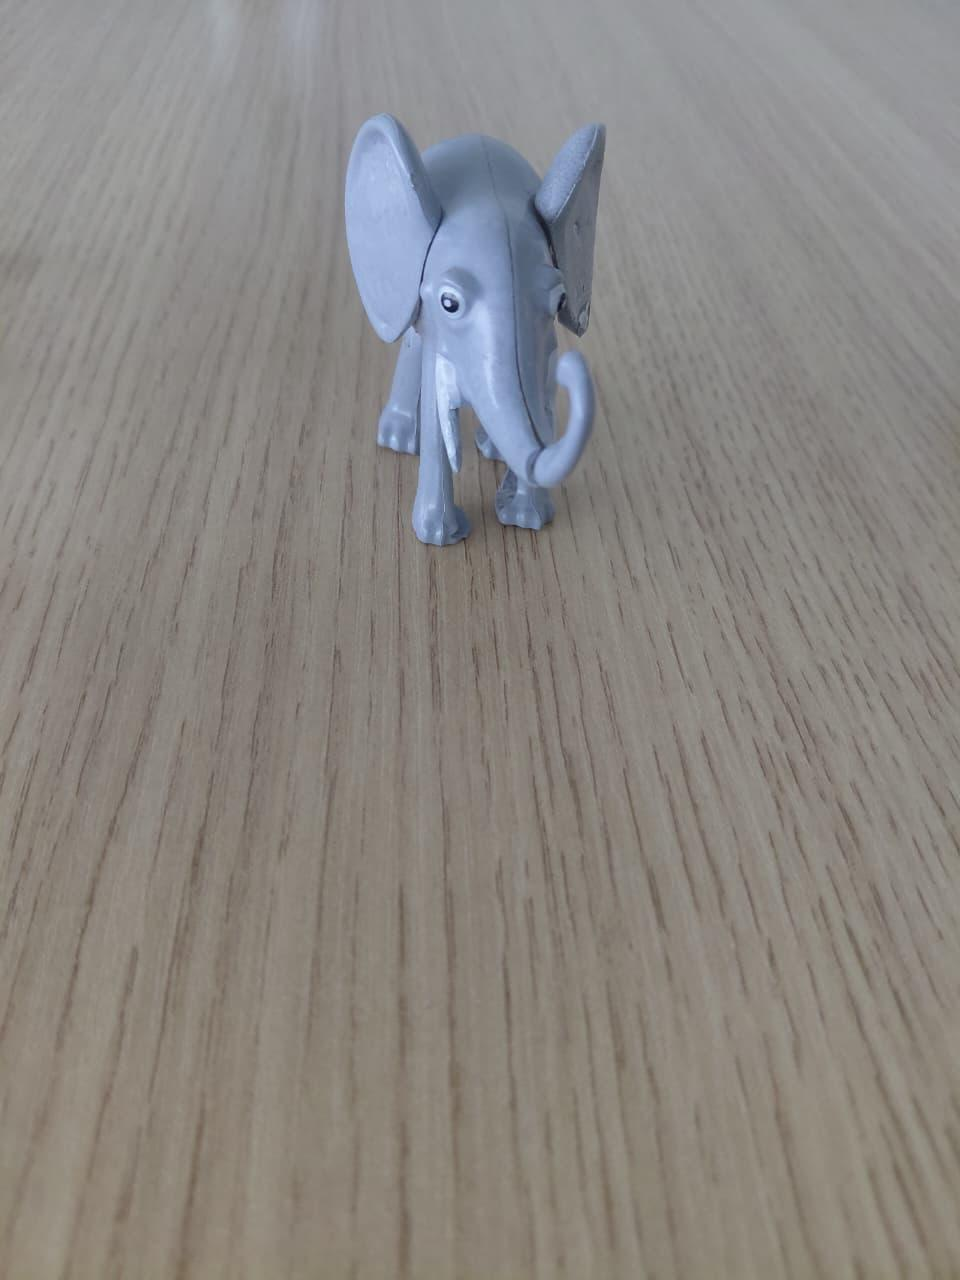elephant: (308, 76, 746, 597)
